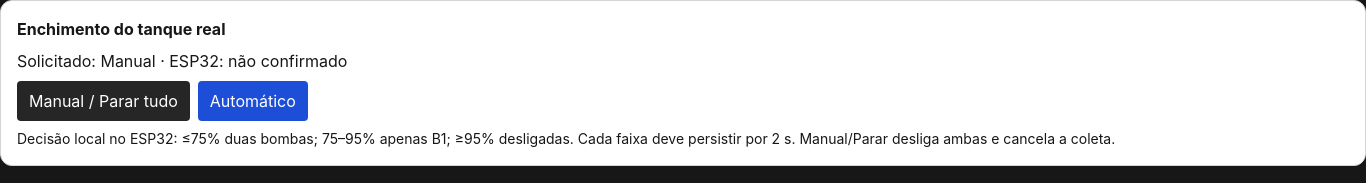
Test: default manual; deliberate enable carries current revision; stop remains available
Click the button "Automático". click: (253, 101)
box: [198, 81, 308, 121]
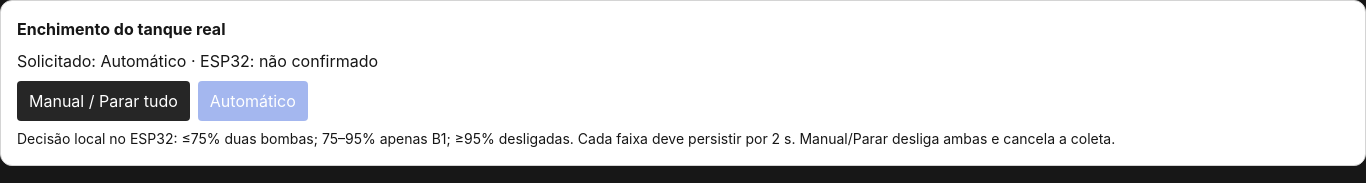
Expected: the text "Solicitado: Automático · ESP32: não confirmado" is shown, [17, 51, 378, 71]
Click the button "Manual / Parar tudo". click: (103, 101)
box: [17, 81, 190, 121]
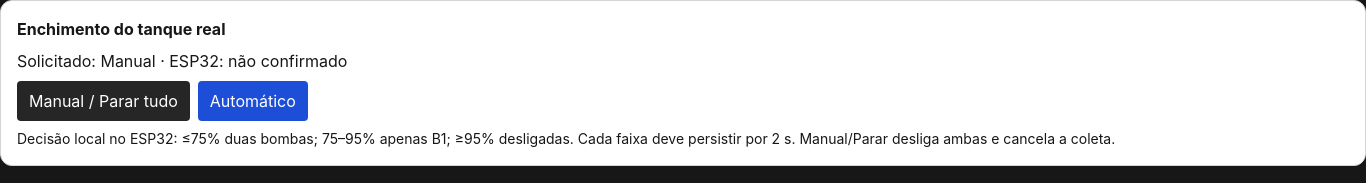
Expected: the text "Solicitado: Manual · ESP32: não confirmado" is shown, [17, 51, 347, 71]
